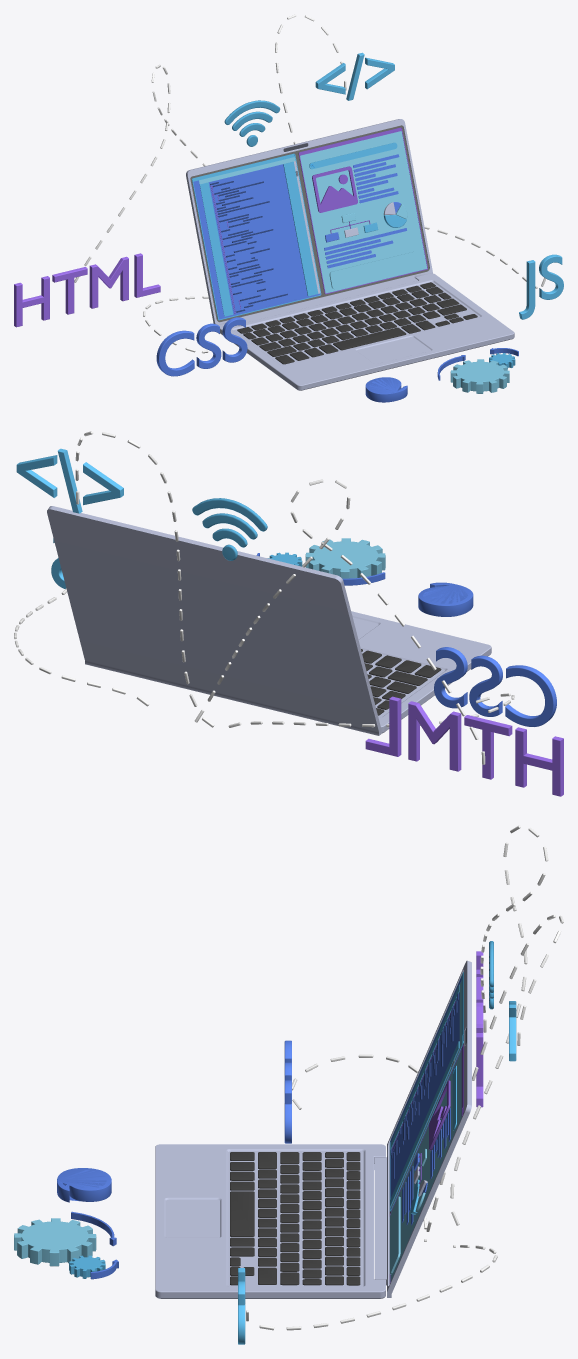
Rendered from Web development 3d clipart.fbx.
3 views of the same model, one above another, from view 1: azimuth 30°, elevation 25°; view 2: azimuth 150°, elevation 25°; view 3: azimuth 270°, elevation 25° (orthographic). The views are drawn at different scales.
Parts seen in each view (by area): view 1: laptop body, Window 2 detail 001, Window 1 detail 001, laptop key bord, Window 2 detail 002, laptop screen, Window 1 detail 002, HTML, Gears, CSS, Lines, </> (+6 smaller); view 2: laptop screen, HTML, laptop body, CSS, Lines, Gears, laptop key bord, </>, Wi-Fi, @; view 3: laptop body, laptop key bord, laptop screen, Gears, Lines, Window 2 detail 001, Window 2 detail 002, Window 1 detail 001, Window 1 detail 002, @, HTML, CSS (+1 smaller).
Part boxes in pixels (left/top/right/bottom): laptop body: left=219, top=273, right=514, bottom=390; Window 2 detail 001: left=192, top=153, right=321, bottom=320; Window 1 detail 001: left=298, top=127, right=427, bottom=294; laptop key bord: left=237, top=282, right=477, bottom=364; Window 2 detail 002: left=193, top=157, right=320, bottom=319; laptop screen: left=186, top=119, right=432, bottom=325; Window 1 detail 002: left=309, top=142, right=419, bottom=289; HTML: left=14, top=253, right=160, bottom=327; Gears: left=437, top=348, right=518, bottom=393; CSS: left=156, top=317, right=247, bottom=376; Lines: left=74, top=14, right=545, bottom=353; </>: left=315, top=52, right=394, bottom=100; laptop screen: left=47, top=506, right=381, bottom=735; HTML: left=365, top=696, right=563, bottom=796; laptop body: left=351, top=611, right=491, bottom=733; CSS: left=434, top=647, right=556, bottom=726; Lines: left=14, top=431, right=514, bottom=764; Gears: left=256, top=538, right=385, bottom=585; laptop key bord: left=361, top=649, right=441, bottom=715; </>: left=16, top=448, right=123, bottom=513; Wi-Fi: left=192, top=498, right=267, bottom=560; @: left=418, top=582, right=473, bottom=616; laptop body: left=155, top=1144, right=385, bottom=1298; laptop key bord: left=230, top=1152, right=360, bottom=1285; laptop screen: left=374, top=960, right=471, bottom=1297; Gears: left=14, top=1211, right=118, bottom=1279; Lines: left=246, top=825, right=563, bottom=1330; Window 2 detail 001: left=389, top=972, right=463, bottom=1211; Window 2 detail 002: left=390, top=977, right=461, bottom=1209; Window 1 detail 001: left=389, top=1044, right=463, bottom=1283; Window 1 detail 002: left=389, top=1065, right=456, bottom=1274; @: left=57, top=1168, right=111, bottom=1202; HTML: left=476, top=951, right=483, bottom=1107; CSS: left=284, top=1040, right=291, bottom=1143.
Bounding box in the file's own units: 1039 × 532 × 769.
